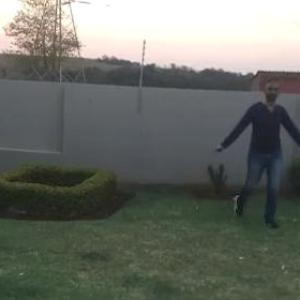land: (214, 91, 299, 227)
